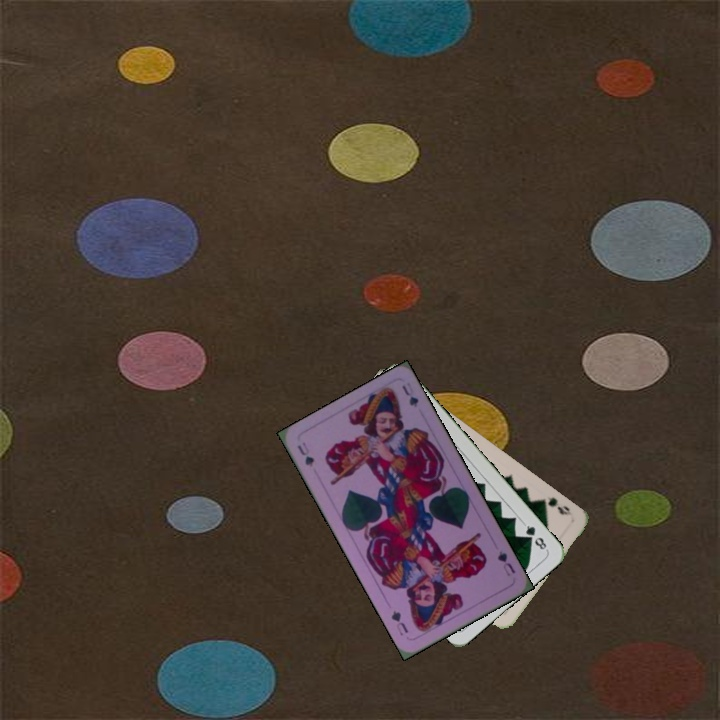G8: (519, 519, 550, 553)
G9: (536, 492, 575, 518)
GU: (493, 547, 518, 579), (293, 438, 317, 470)
